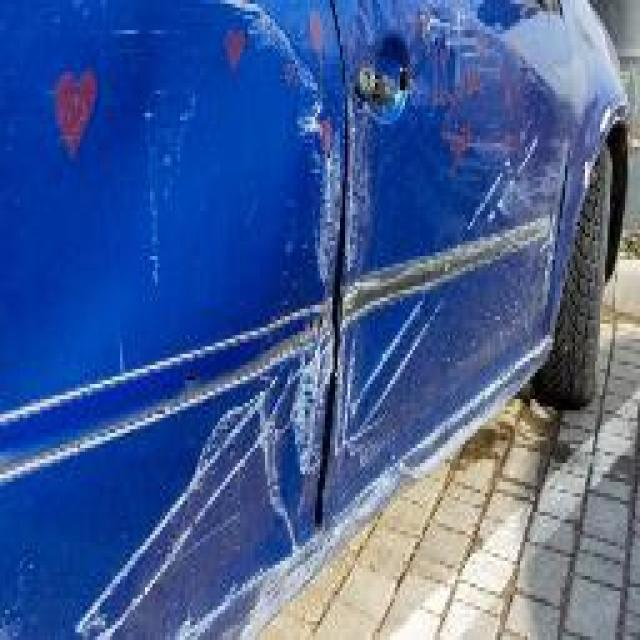Door: (28, 8, 332, 636), (345, 11, 568, 474)
